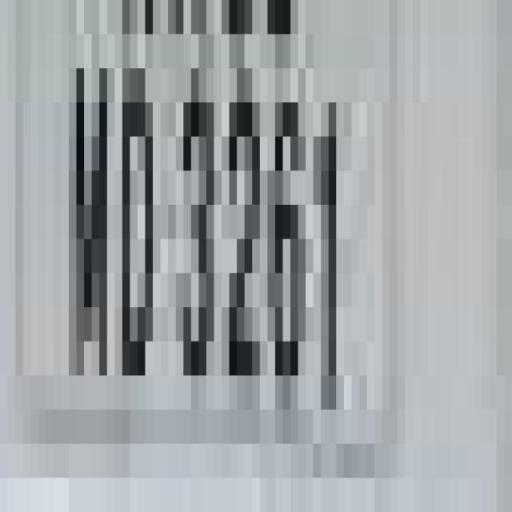number plate: (0, 0, 482, 512)
